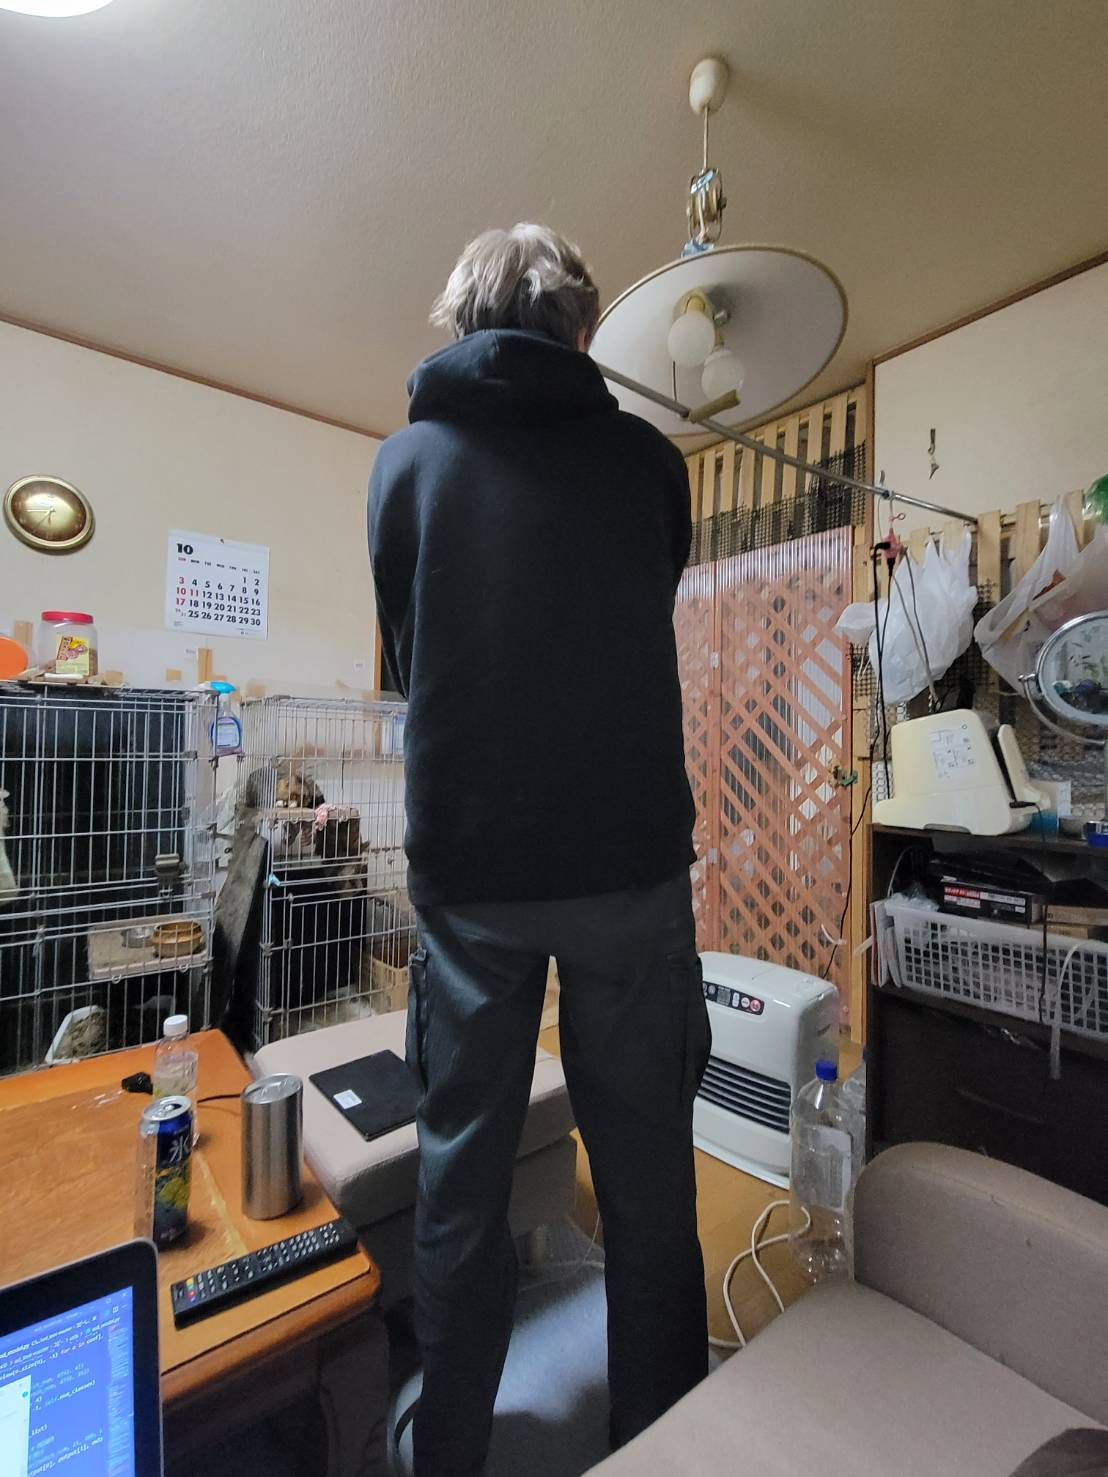male: (350, 214, 711, 1477)
